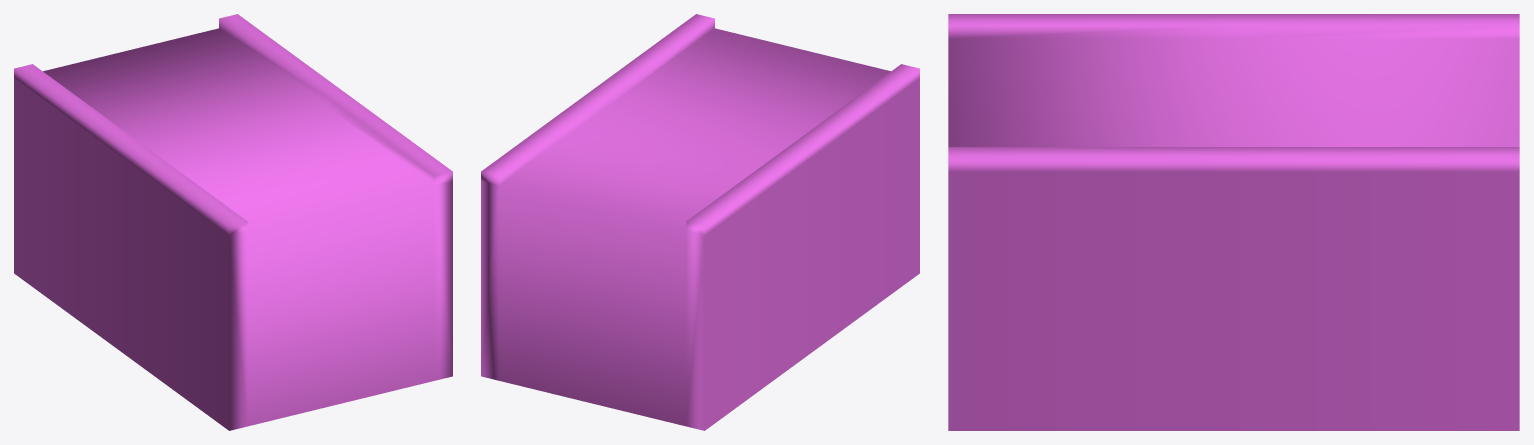
3 views of the same model, side by side, from view 1: azimuth 30°, elevation 25°; view 2: azimuth 150°, elevation 25°; view 3: azimuth 270°, elevation 25° (orthographic). The views are drawn at different scales.
Visible parts, largest first — view 1: Mesh; view 2: Mesh; view 3: Mesh.
Boxes of the visible parts, x1,y1,x2,y2 form: Mesh: (14, 14, 452, 430); Mesh: (481, 14, 919, 430); Mesh: (948, 14, 1519, 430).
Size of the model in its own units: 480 by 420 by 800.
